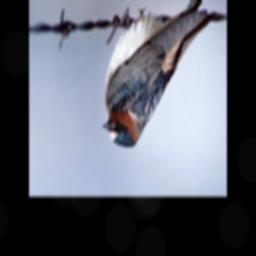Swallow: (103, 0, 216, 148)
